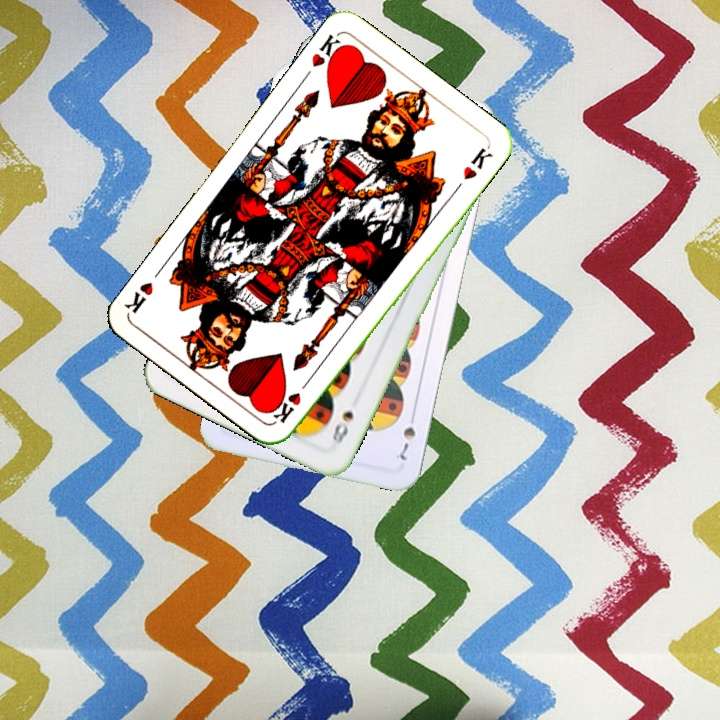HK: (269, 373, 314, 427), (307, 30, 349, 74)
S7: (395, 407, 418, 463)
S8: (328, 406, 356, 452)
